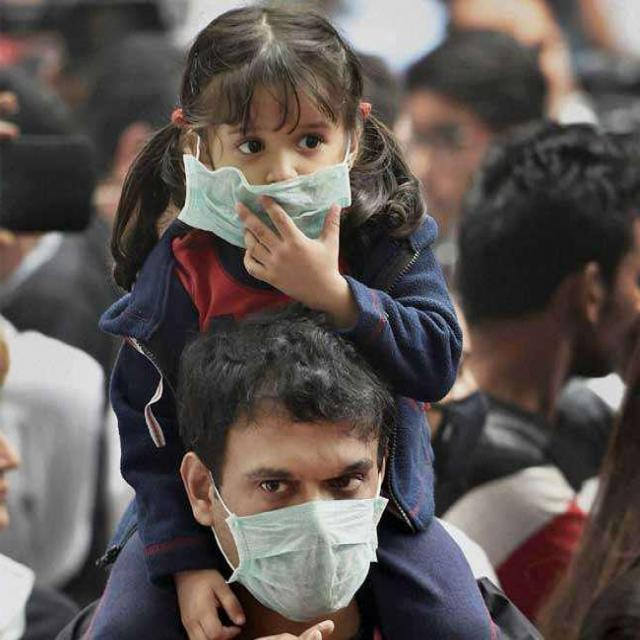face: (173, 306, 409, 630), (171, 5, 380, 249), (411, 90, 494, 224), (576, 211, 640, 374)
